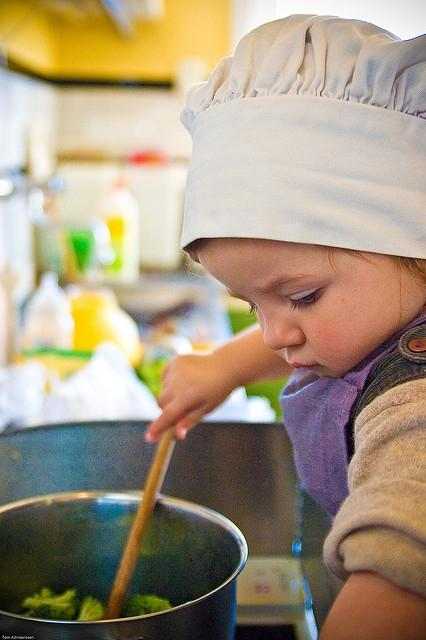broccoli: (22, 588, 76, 620), (121, 595, 172, 618), (74, 594, 107, 622)
